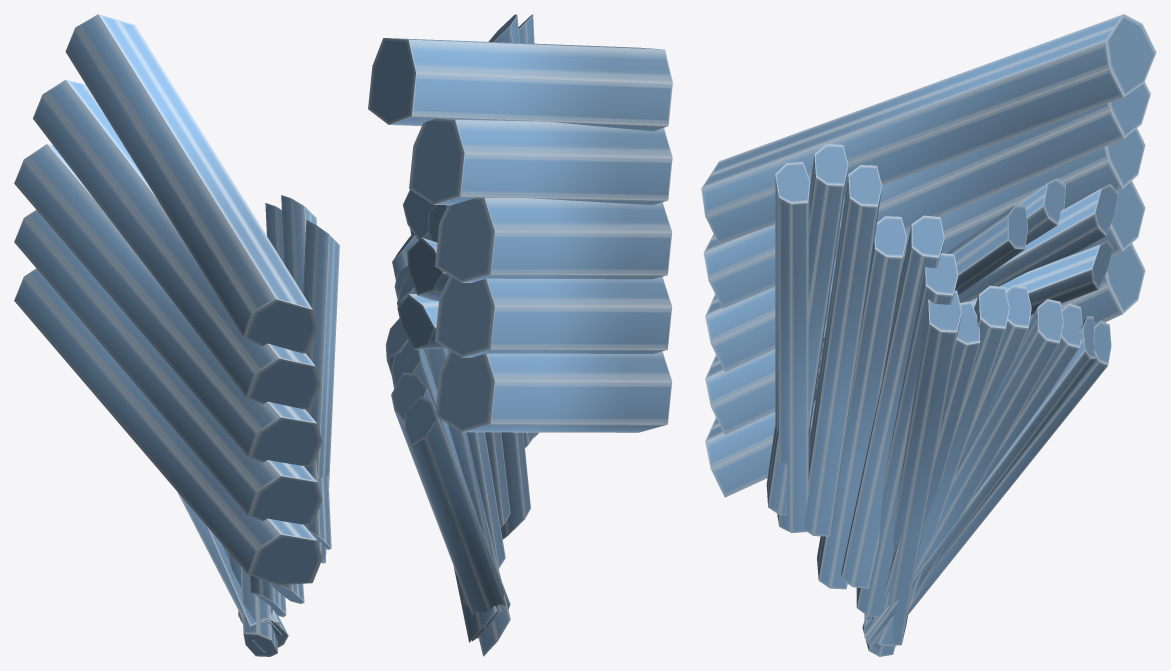
The model's file is wall_crystal_pipes_02.fbx.
3 renders of one model, left to right at view 1: azimuth 30°, elevation 25°; view 2: azimuth 150°, elevation 25°; view 3: azimuth 270°, elevation 25°, orthographic. The views are drawn at different scales.
Visible parts, largest first — view 1: wall_crystal_pipes_02; view 2: wall_crystal_pipes_02; view 3: wall_crystal_pipes_02.
Part boxes in pixels (x1,y1,x2,y2): wall_crystal_pipes_02: (14,14,339,656); wall_crystal_pipes_02: (368,14,672,656); wall_crystal_pipes_02: (701,14,1156,656).
Bounding box in the file's own units: 1.06 × 3.48 × 2.34.
Materials: 1 (1 with a texture image).
